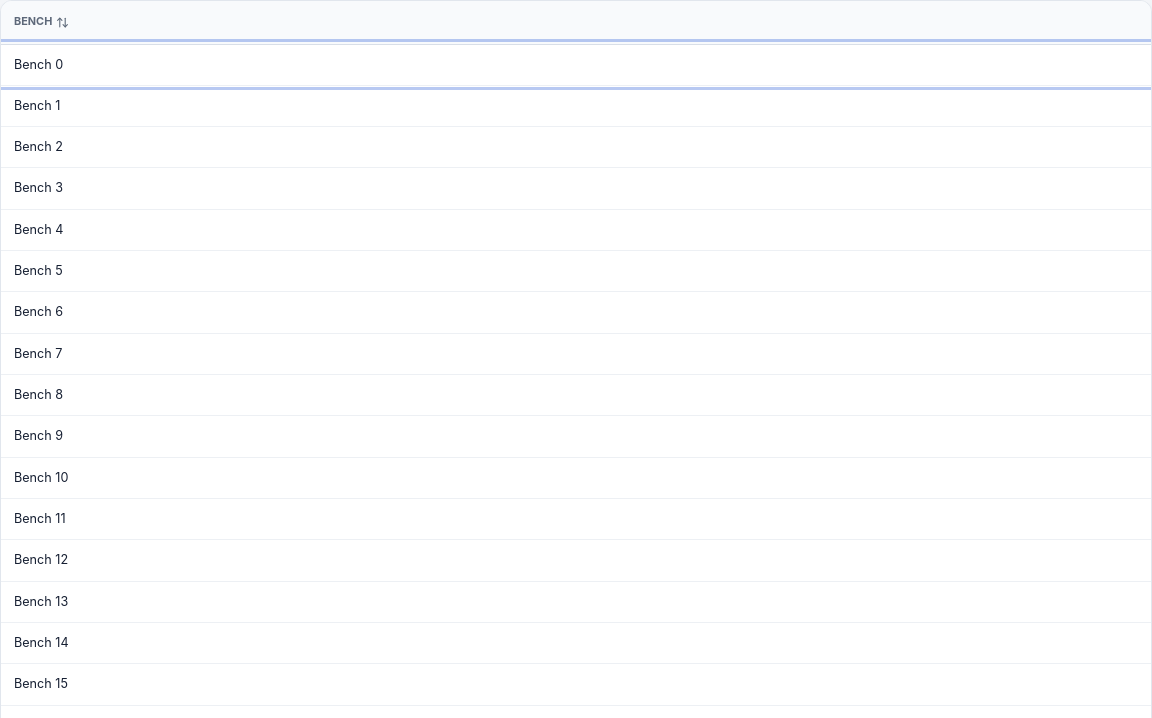
Test: shared operational UI › paginates large data sets and keeps rows keyboard-operable
The width and height of the screenshot is (1152, 718).
Press Enter in the row named "Open Bench 0", box [1,44,1151,85]
(page scrolled)
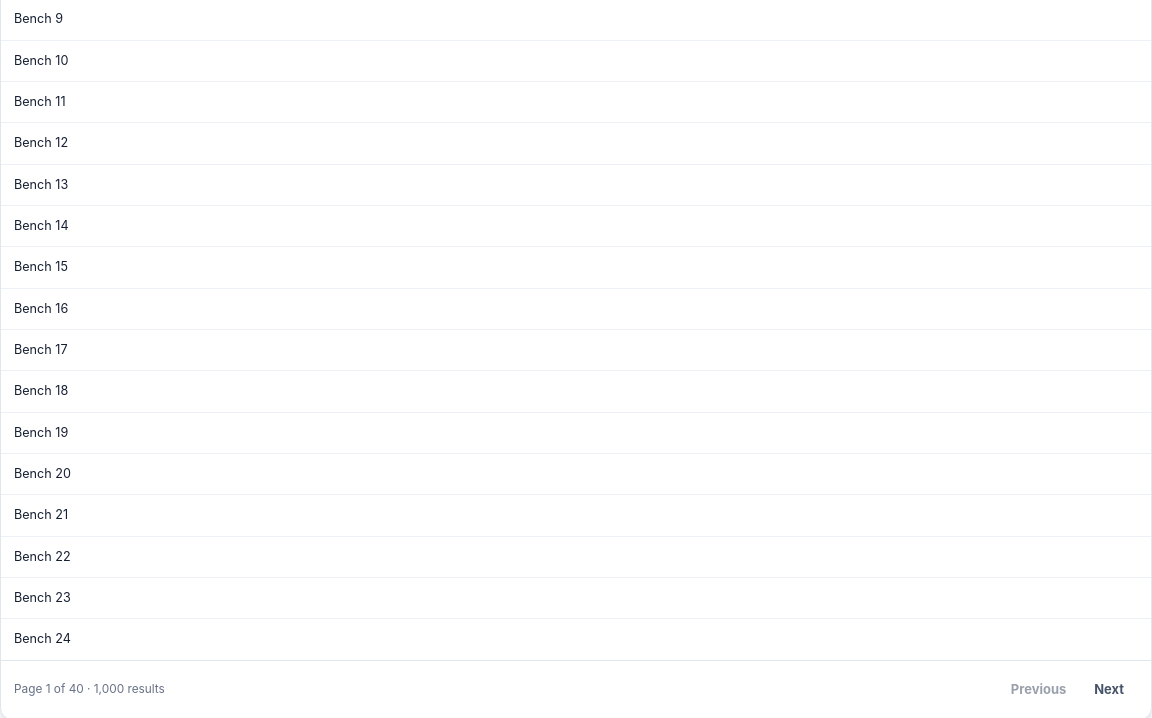
expect the text "Page 1 of 40 · 1,000 results" is shown: met, box [14,681,165,698]
Click the button "Next" at (1109, 690), box [1080,671,1138,709]
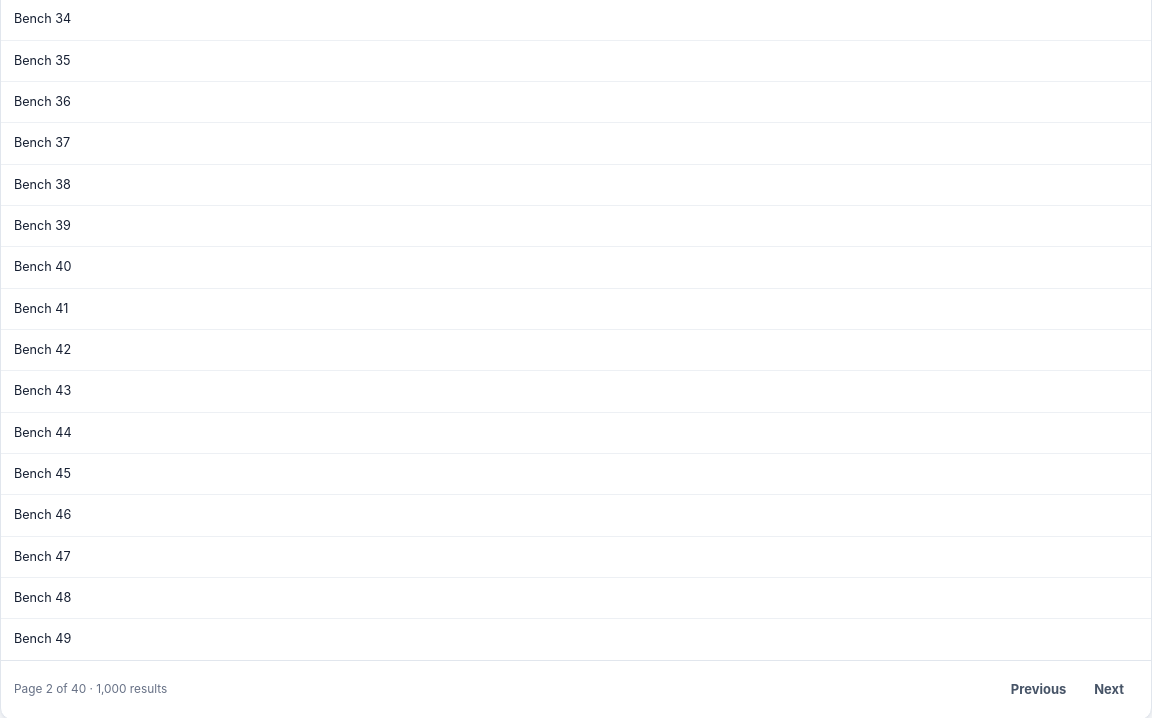
expect the text "Page 2 of 40 · 1,000 results" is shown: met, box [14,681,167,698]
Click the button "Previous" at (1038, 690), box [997,671,1080,709]
(page scrolled)
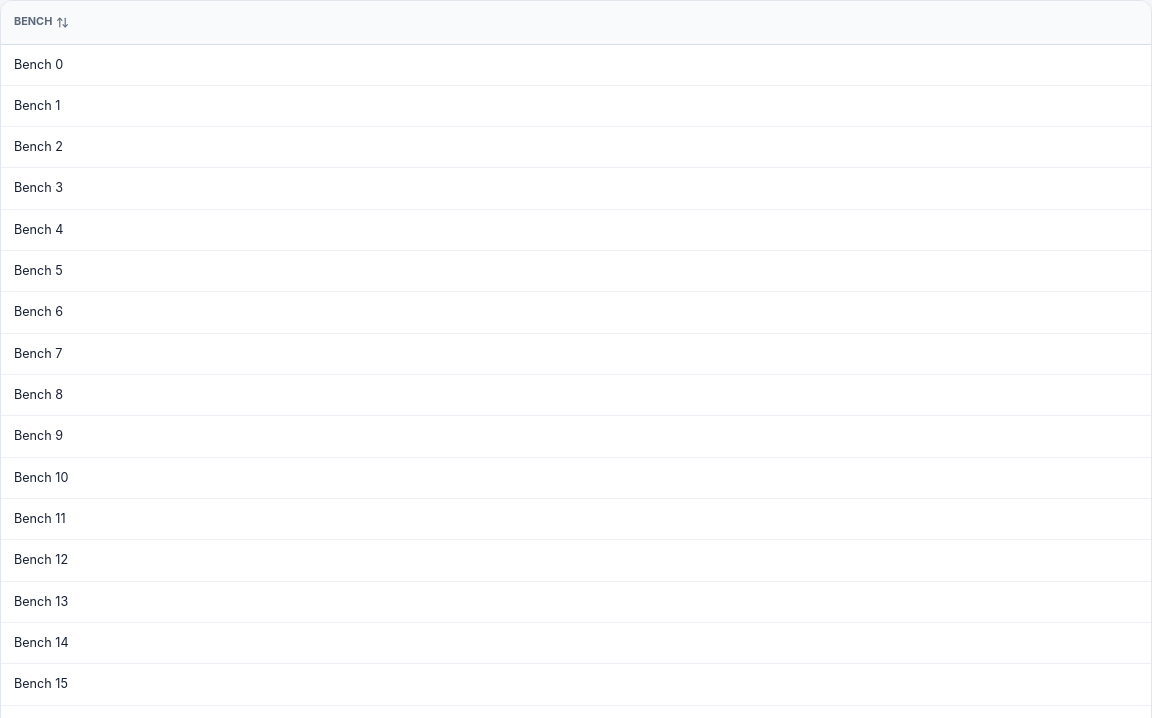
expect the row named "Open Bench 0" is shown: met, box [1,44,1151,85]
